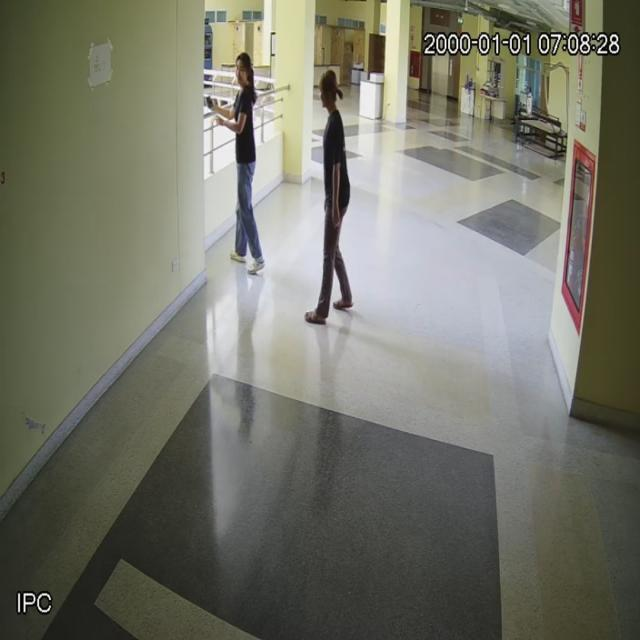normal: (307, 62, 359, 326), (224, 42, 269, 274)
